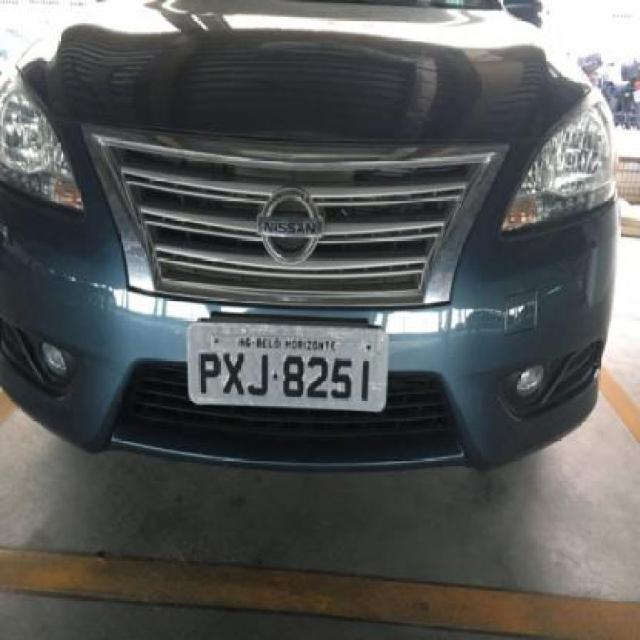old_plate: (183, 315, 395, 418)
